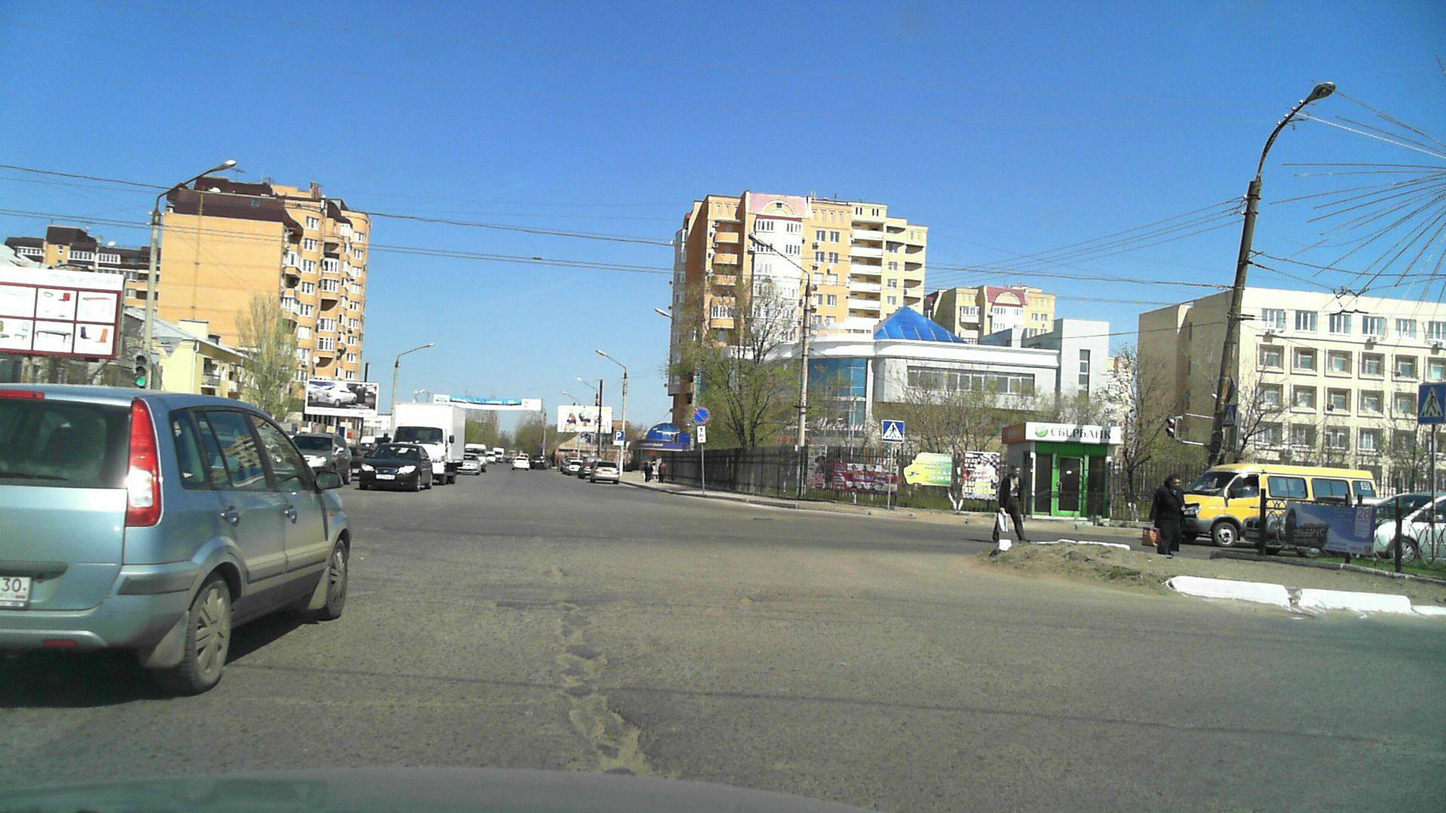road_sign: (1418, 382, 1446, 423), (882, 421, 904, 443), (691, 405, 710, 425), (613, 430, 625, 441)
